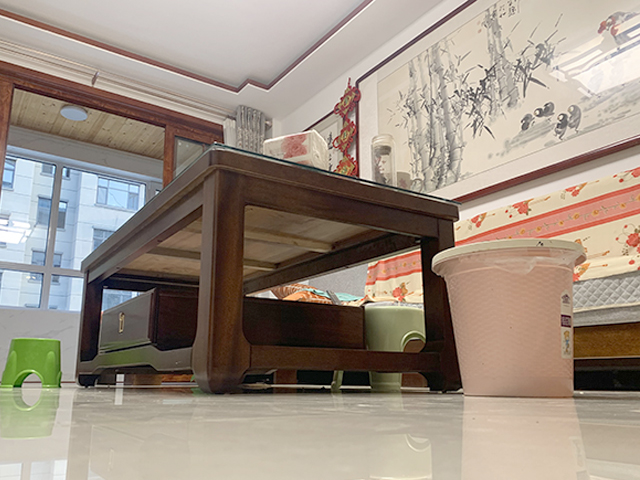sofa: (572, 166, 640, 389)
stool: (366, 301, 429, 395), (1, 337, 64, 390)
table: (73, 141, 462, 394)
trashcan: (430, 236, 589, 400)
